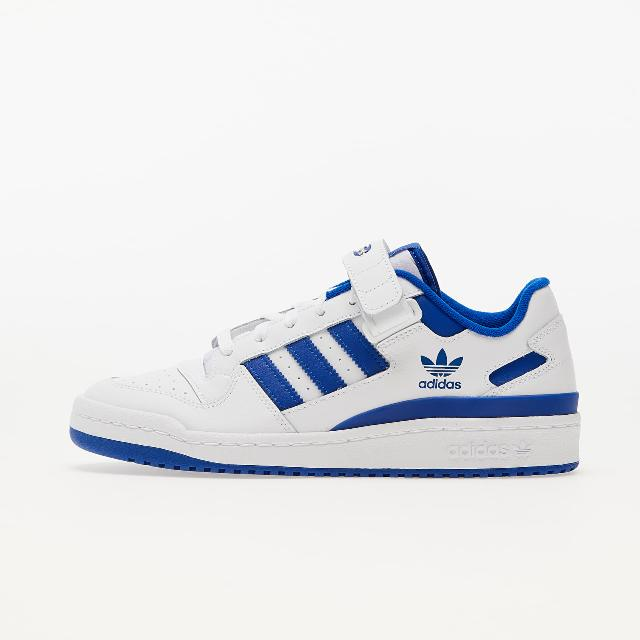Adidas: (418, 346, 464, 390), (420, 347, 464, 377), (418, 378, 462, 390)
